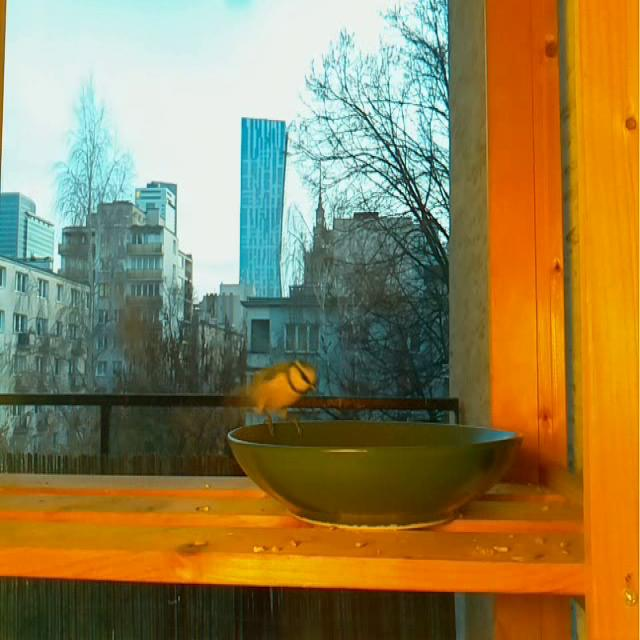Modraszka: (236, 357, 318, 427)
